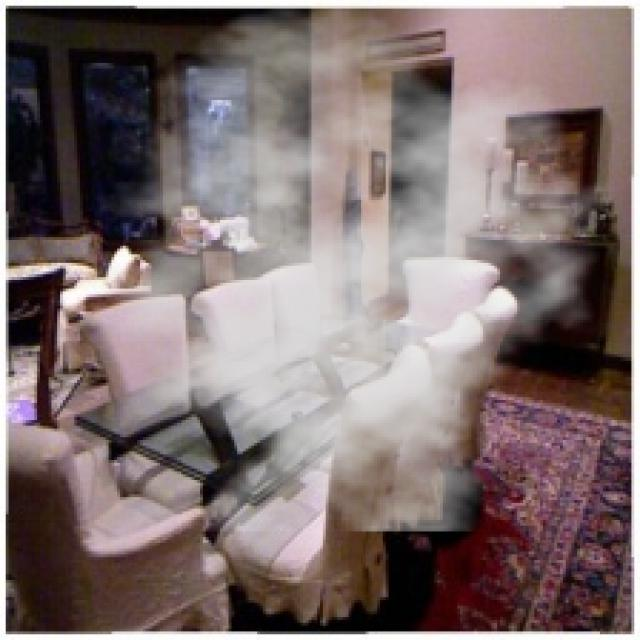smoke: (52, 3, 617, 531)
